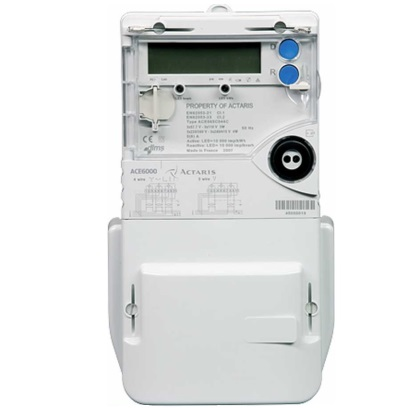counter: (108, 3, 336, 404)
counter_screen: (145, 37, 264, 77)
